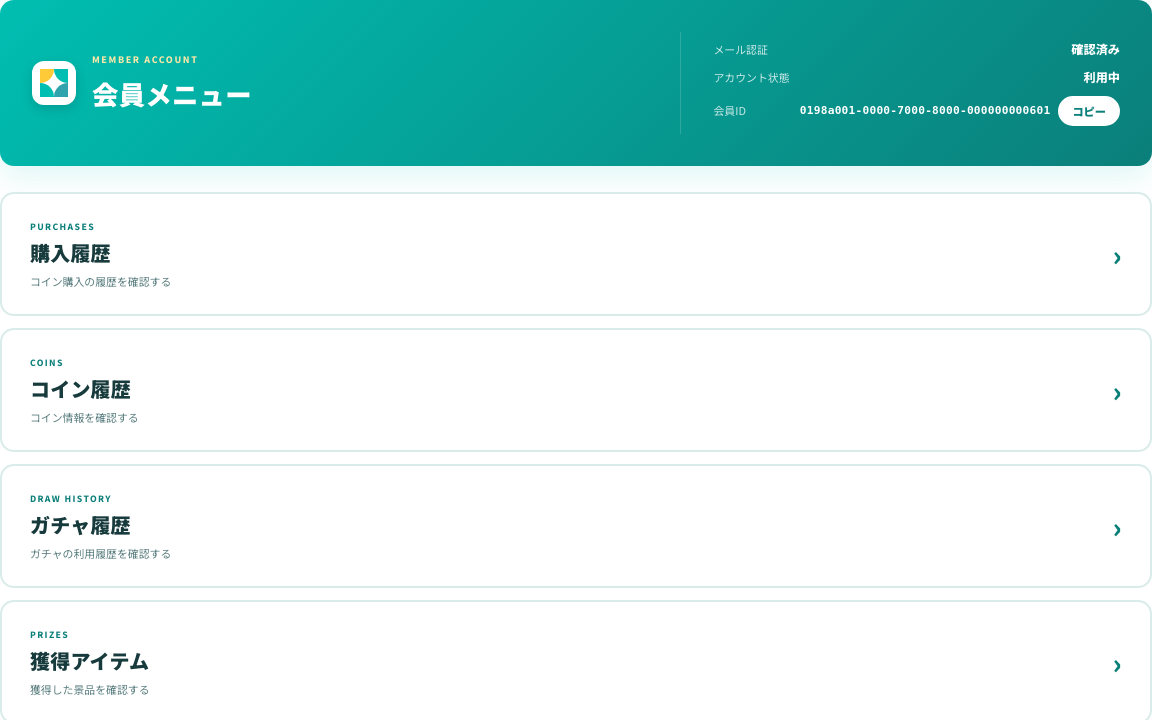
Test case: my page top › copies the member ID with one click and reports the result
Click the button with aria-label "会員IDをコピー": (1089, 112) [1058, 96, 1120, 126]
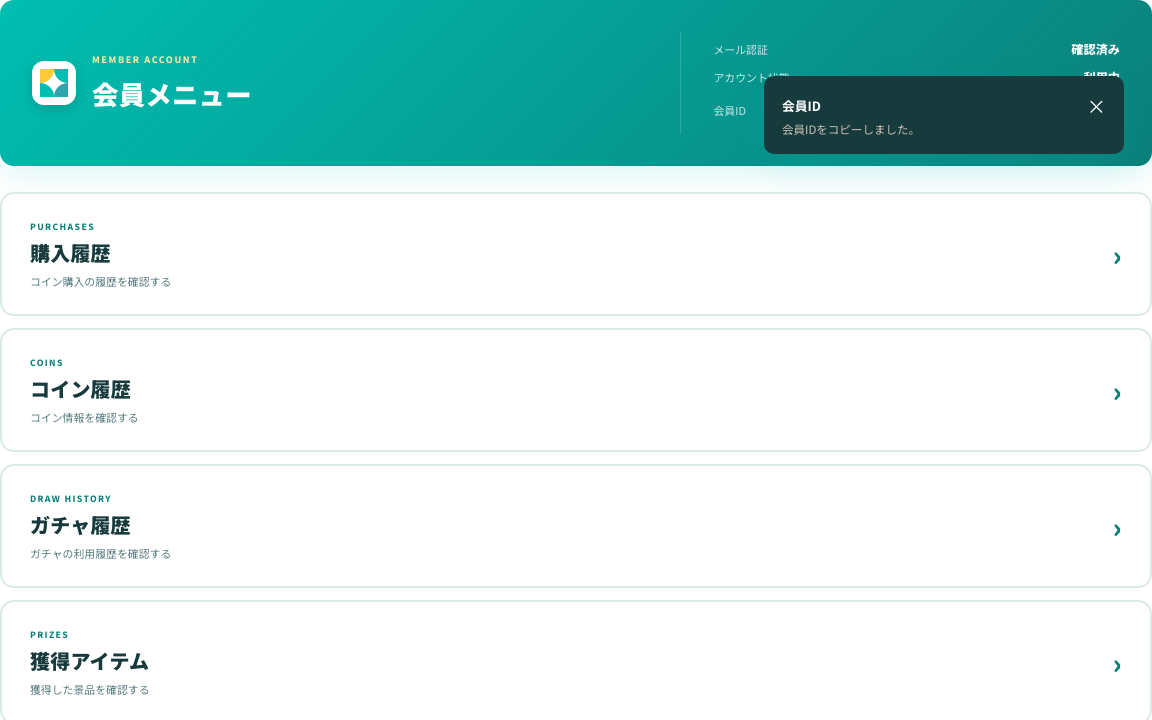
Check: the text "会員IDをコピーしました。" is shown, box [782, 121, 920, 138]
